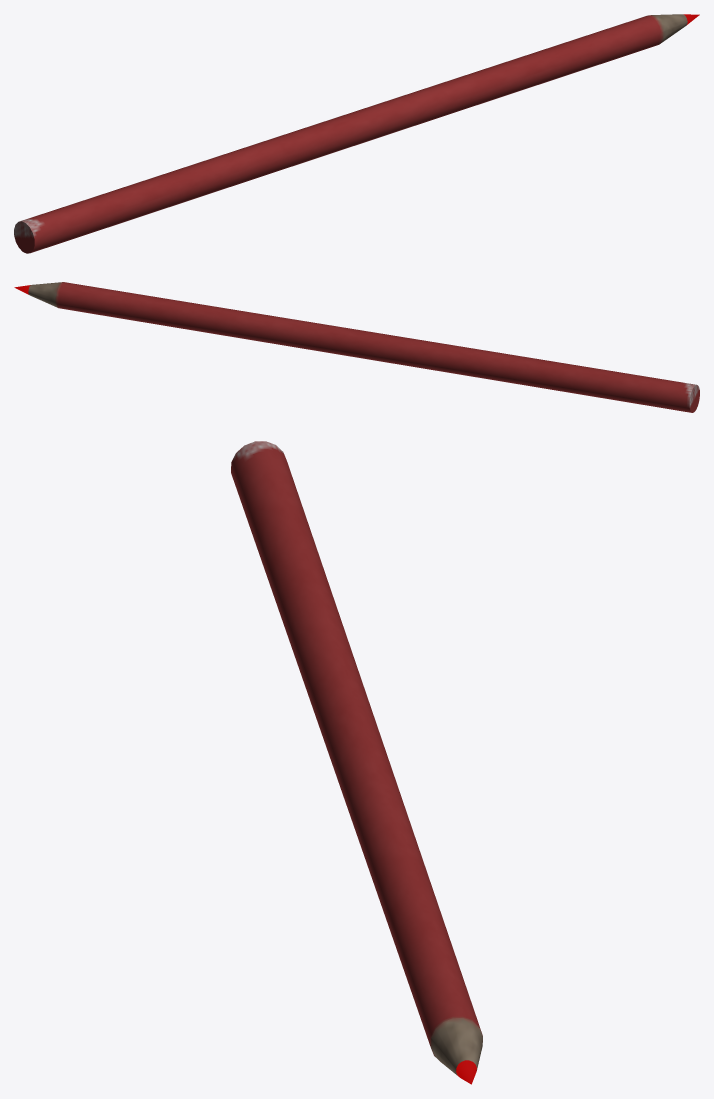
File: SM_Pencil1.fbx
3 renders of one model, top to bottom at view 1: azimuth 30°, elevation 25°; view 2: azimuth 150°, elevation 25°; view 3: azimuth 270°, elevation 25°, orthographic. The views are drawn at different scales.
Visible parts, largest first — view 1: SM_Pencil1_LOD0; view 2: SM_Pencil1_LOD0; view 3: SM_Pencil1_LOD0.
Part boxes in pixels (x1,y1,x2,y2): SM_Pencil1_LOD0: (14,14,699,253); SM_Pencil1_LOD0: (14,282,699,412); SM_Pencil1_LOD0: (231,441,482,1084).
Size of the model in its own units: 16.89 by 2.93 by 0.7016.
Materials: 1 (1 with a texture image).
